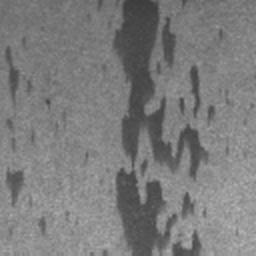Red iron sheet: (95, 0, 237, 256), (4, 35, 68, 133), (3, 116, 38, 152), (4, 165, 24, 206), (82, 148, 90, 165), (40, 219, 47, 237), (218, 26, 225, 42)
